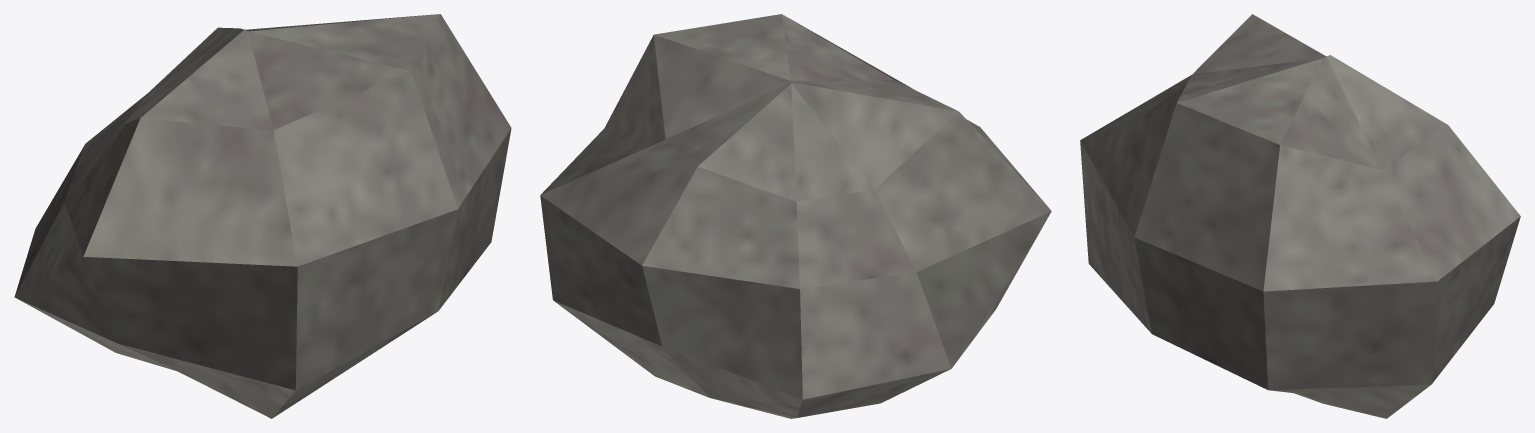
Rendered from boulder.obj.
3 renders of one model, left to right at view 1: azimuth 30°, elevation 25°; view 2: azimuth 150°, elevation 25°; view 3: azimuth 270°, elevation 25°, orthographic. The views are drawn at different scales.
Parts seen in each view (by area): view 1: boulder; view 2: boulder; view 3: boulder.
Boxes of the visible parts, box(x1,y1,x2,y2) form: boulder: box(14, 14, 511, 418); boulder: box(540, 14, 1051, 418); boulder: box(1080, 14, 1520, 418).
Size of the model in its own units: 1.23 by 0.9383 by 1.08.
1 material, 1 textured.
